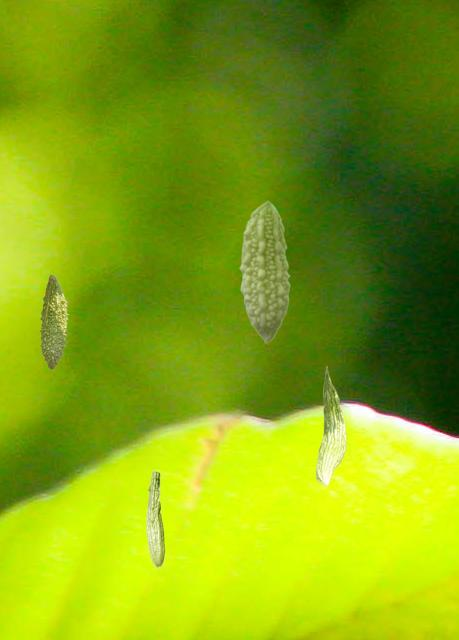ampalaya: (239, 200, 290, 343), (315, 365, 347, 488), (38, 274, 69, 370), (145, 470, 165, 568)
